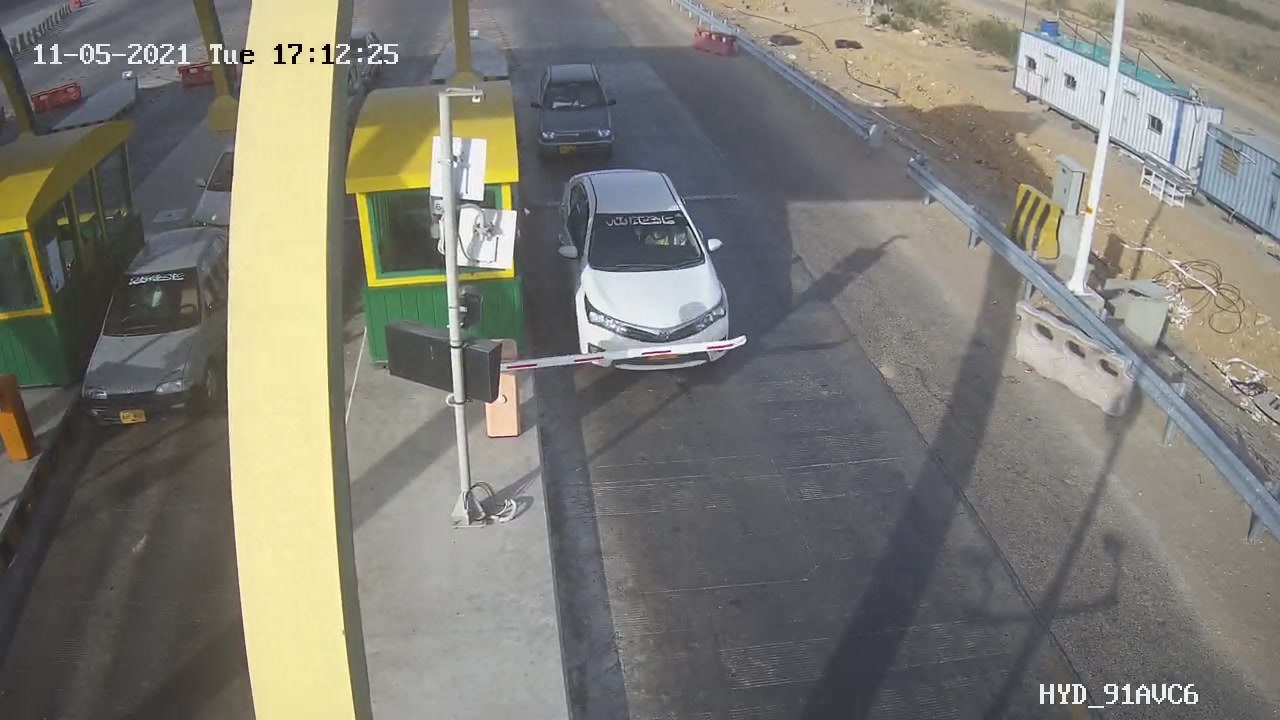F1: (539, 156, 760, 394), (521, 53, 635, 165)
